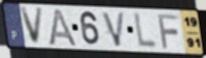6: (79, 10, 101, 47)
A: (47, 8, 79, 48)
F: (156, 12, 181, 50)
L: (133, 11, 159, 50)
V: (100, 10, 127, 48), (19, 7, 45, 46)
